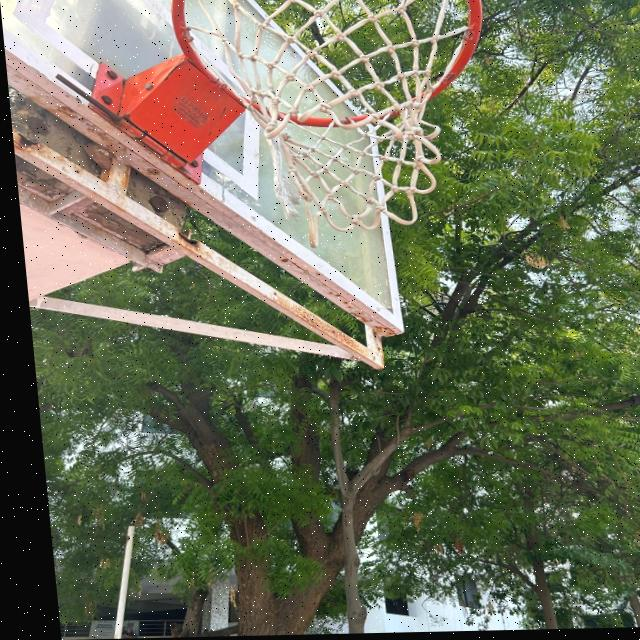hoop: (104, 0, 564, 269)
